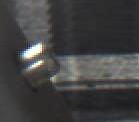screw: (14, 40, 62, 92)
